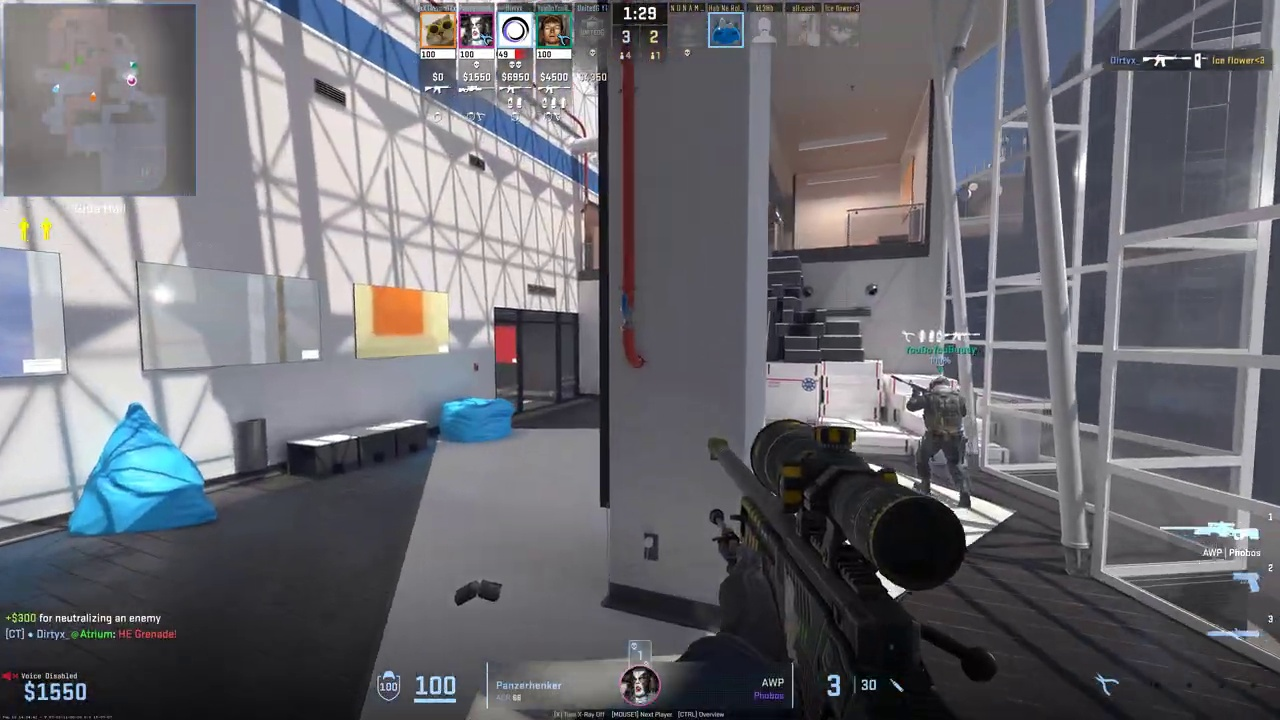CT: (914, 377, 970, 506)
